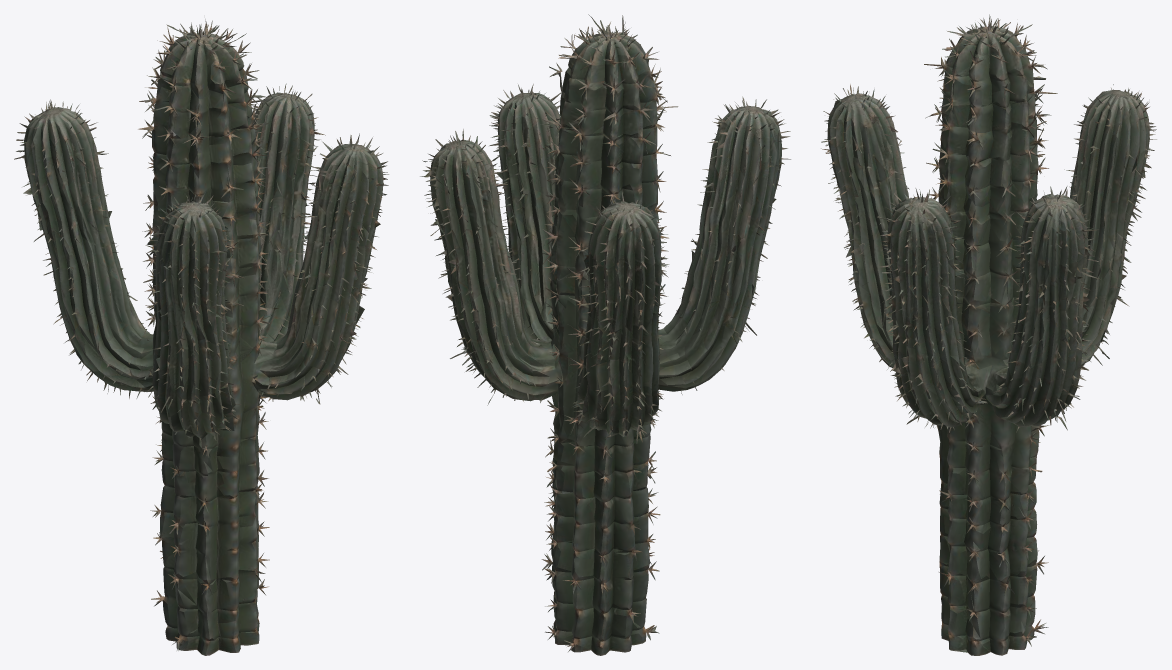
The model's file is saguaro-pbr.glb.
3 views of the same model, side by side, from view 1: azimuth 30°, elevation 25°; view 2: azimuth 150°, elevation 25°; view 3: azimuth 270°, elevation 25° (orthographic).
Size of the model in its own units: 0.8655 by 1.9 by 0.9457.
1 material, 1 textured.
